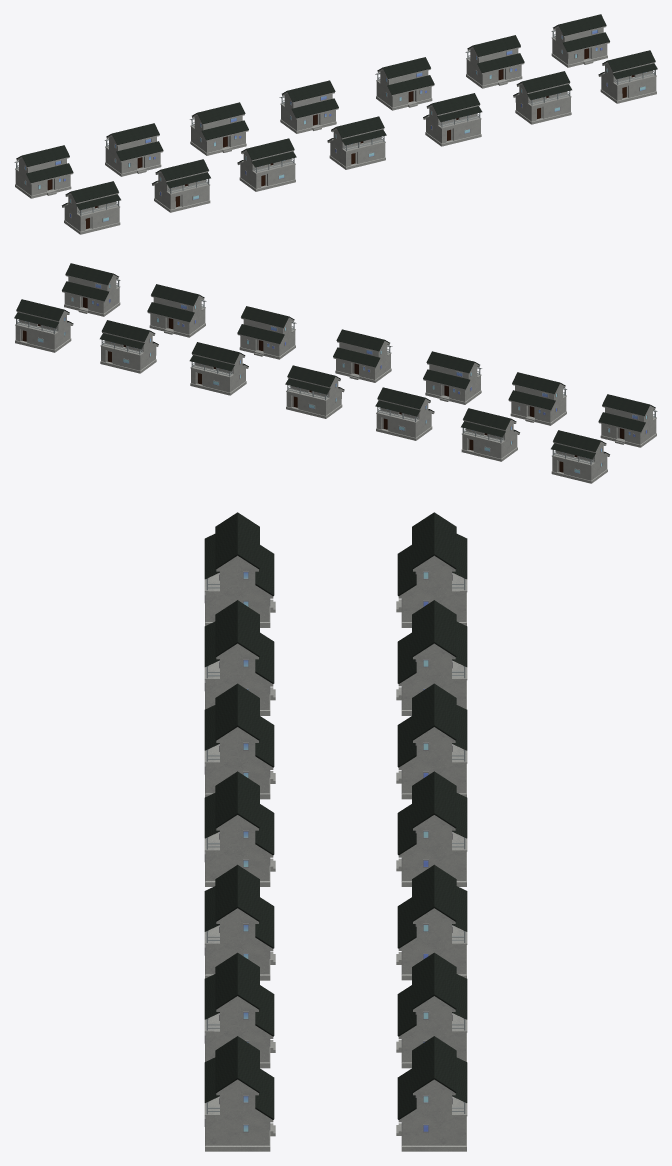
Rendered from tokyo_track_bldg_town_02.dae.
3 views of the same model, one above another, from view 1: azimuth 30°, elevation 25°; view 2: azimuth 150°, elevation 25°; view 3: azimuth 270°, elevation 25° (orthographic). The views are drawn at different scales.
Visible parts, largest first — view 1: bldg_town_02; view 2: bldg_town_02; view 3: bldg_town_02.
Boxes of the visible parts, x1,y1,x2,y2 form: bldg_town_02: [14, 14, 657, 234]; bldg_town_02: [14, 263, 657, 483]; bldg_town_02: [204, 512, 467, 1151].
Size of the model in its own units: 340 by 21.11 by 66.71.
6 materials, 6 textured.
